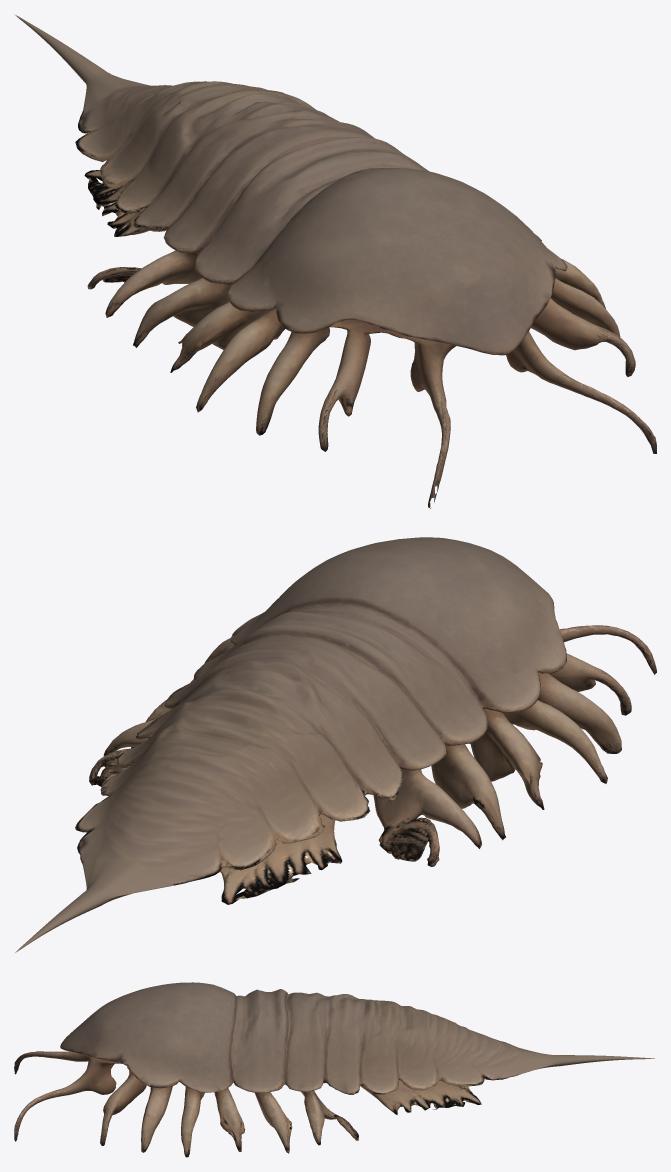
The picture shows the model from 3 angles, top to bottom: view 1: azimuth 30°, elevation 25°; view 2: azimuth 150°, elevation 25°; view 3: azimuth 270°, elevation 25°; orthographic projection. The views are drawn at different scales.
Visible parts, largest first — view 1: world; view 2: world; view 3: world.
Part boxes in pixels (x1,y1,x2,y2): world: (14, 14, 656, 508); world: (15, 537, 656, 952); world: (14, 982, 654, 1157).
Size of the model in its own units: 0.0116 by 0.00522 by 0.026.
1 material, 1 textured.
